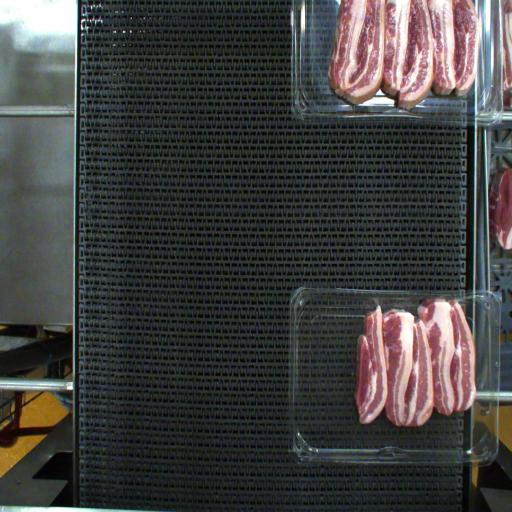packaging-error: (366, 277, 473, 328)
